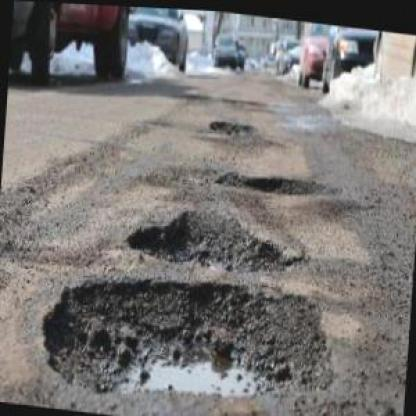pothole: (34, 255, 342, 415), (125, 195, 312, 278), (215, 164, 342, 198), (208, 112, 254, 134)
